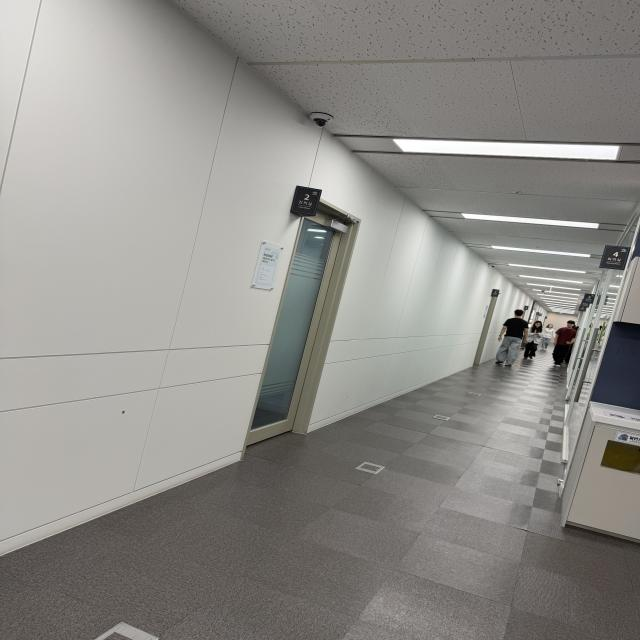room2: (286, 184, 322, 220)
